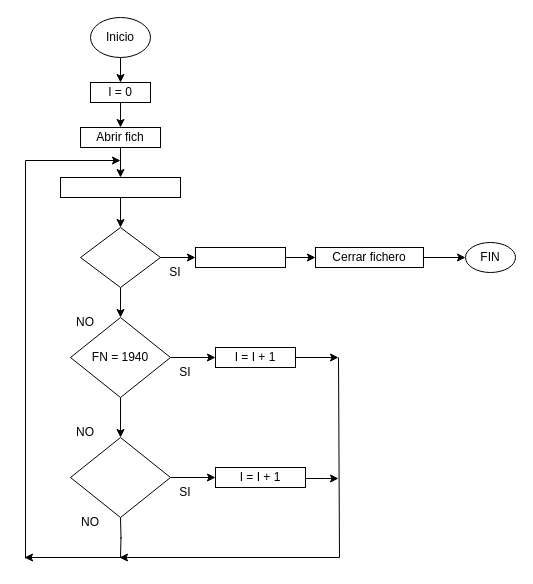
This 533x584 diagram has some shape labels left out. Each missing label, with the centre of its shape:
F. F.: point 120,257
FN = 1941: point 120,477
Leer registro: point 120,187
Total = I: point 240,257
